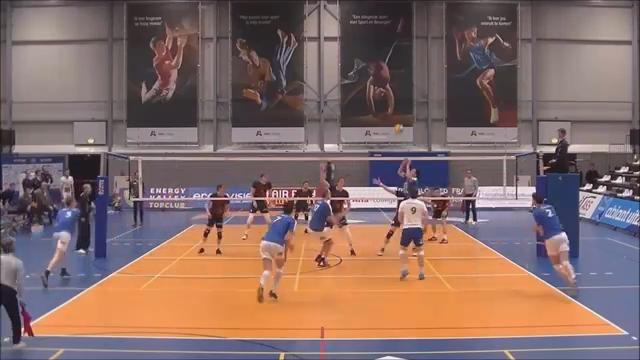Player: (532, 193, 576, 294), (257, 201, 295, 302), (41, 196, 79, 287), (308, 164, 336, 266), (398, 187, 427, 279), (373, 179, 407, 255), (198, 184, 229, 254), (330, 177, 355, 255), (242, 174, 271, 239), (428, 188, 449, 243), (294, 199, 311, 222)
Set: (392, 153, 421, 194)
ball: (394, 122, 404, 133)
